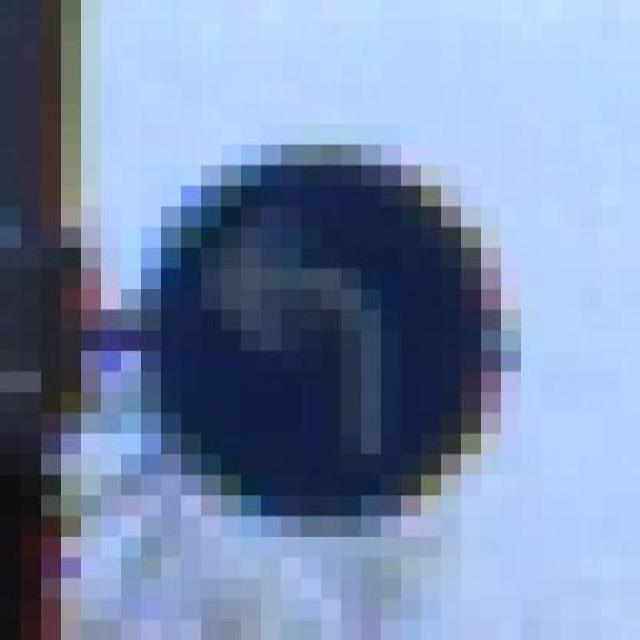Turn left ahead: (140, 103, 520, 537)
